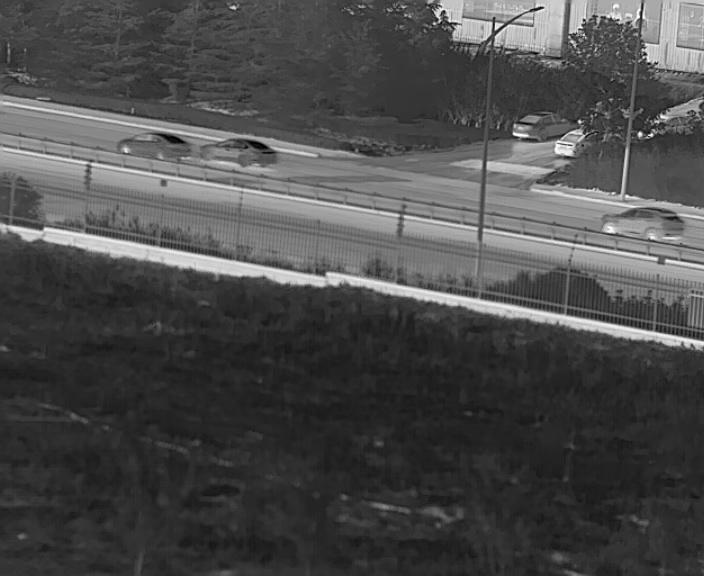vehicle: (602, 205, 684, 241), (117, 130, 196, 160), (200, 137, 275, 168), (512, 109, 558, 141), (554, 129, 587, 158)
